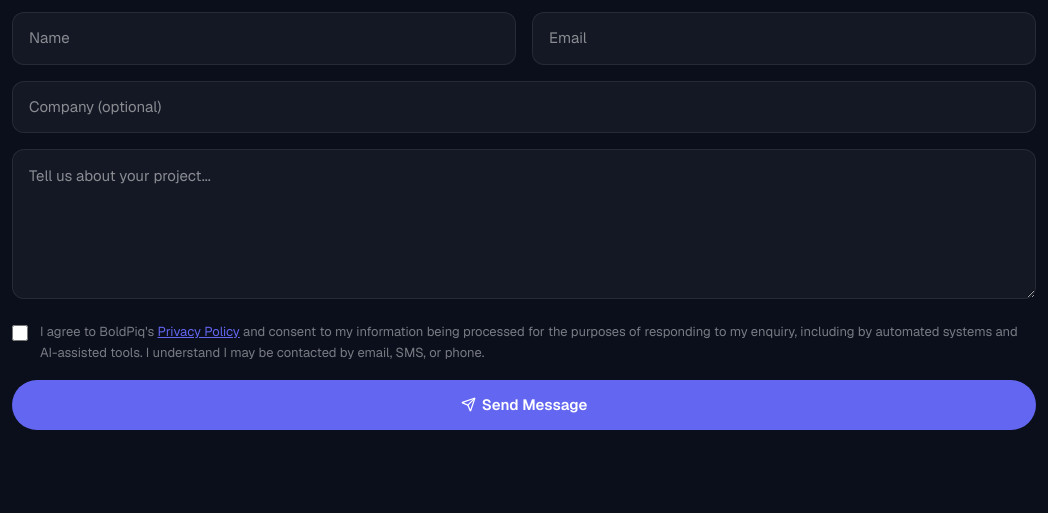
Test: ContactForm › validation — message › shows error when message is too short
This screenshot has width=1048, height=513.
Type "Short" into the text box named "Project details" at (524, 224), box [12, 149, 1036, 299]
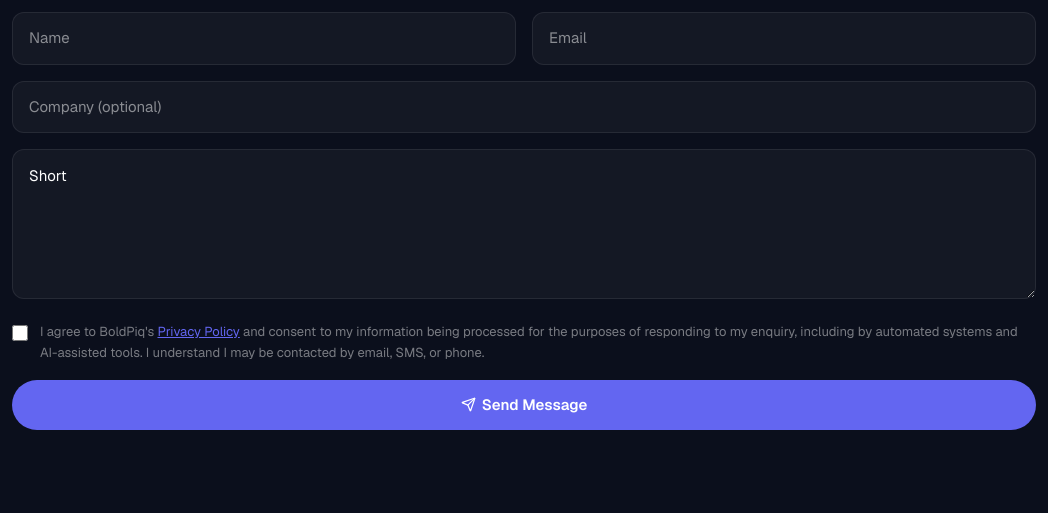
Submit the form named "send message"
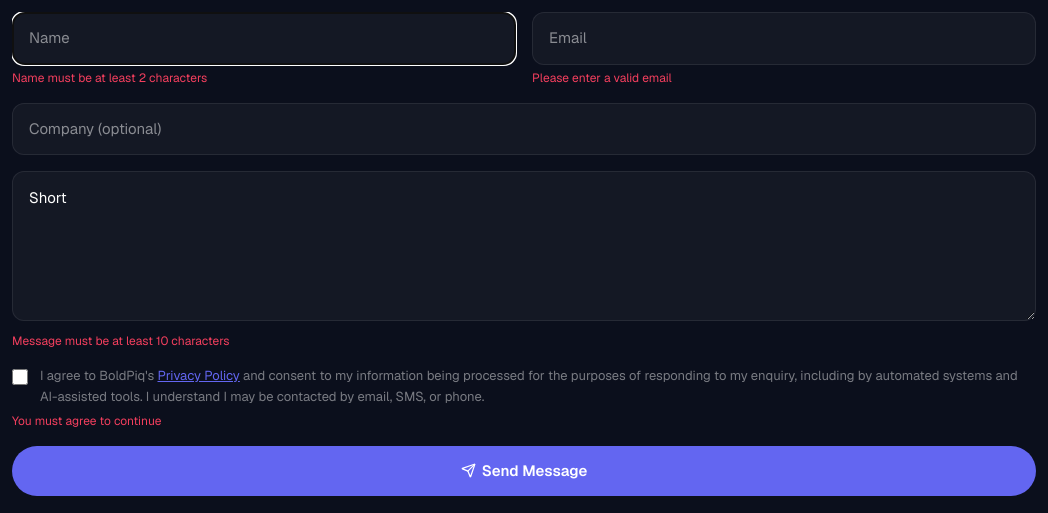
expect the text "Message must be at least 10 characters" is shown: met, box [12, 333, 230, 349]
